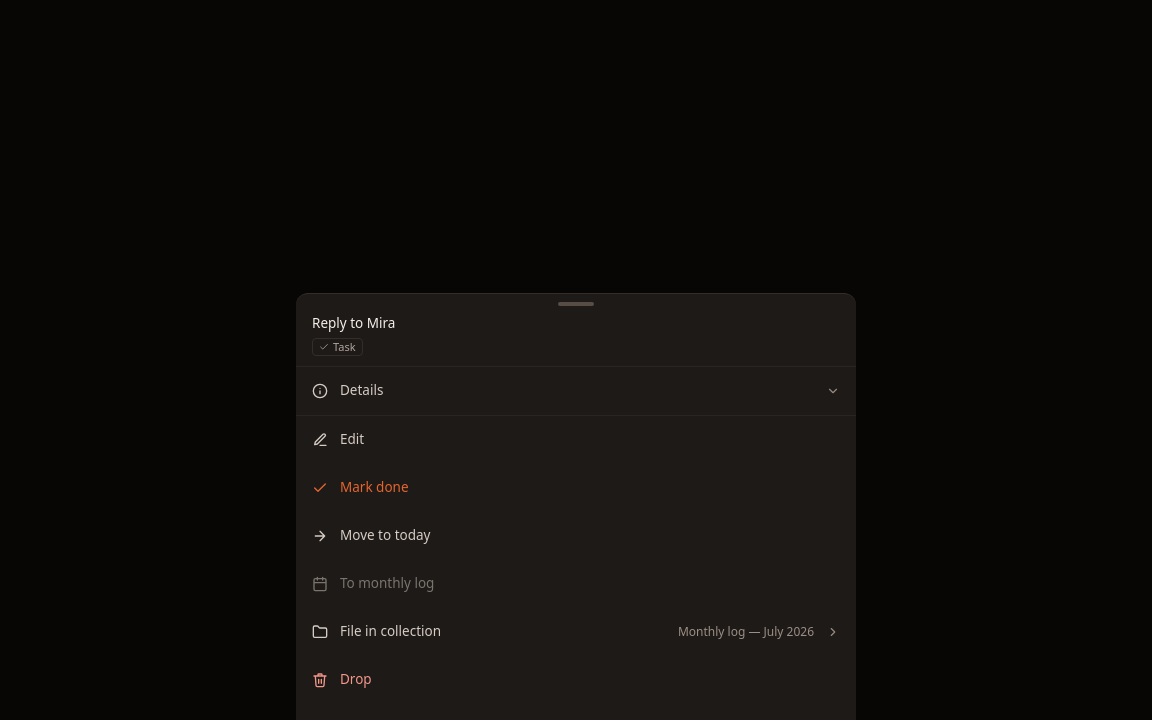
EntryActionSheet › names the monthly log it sits in, and marks it as the picked row
The image size is (1152, 720).
Step 1. Click the button "File in collection Monthly log — July 2026" → [391, 631], box [296,608,856,656]
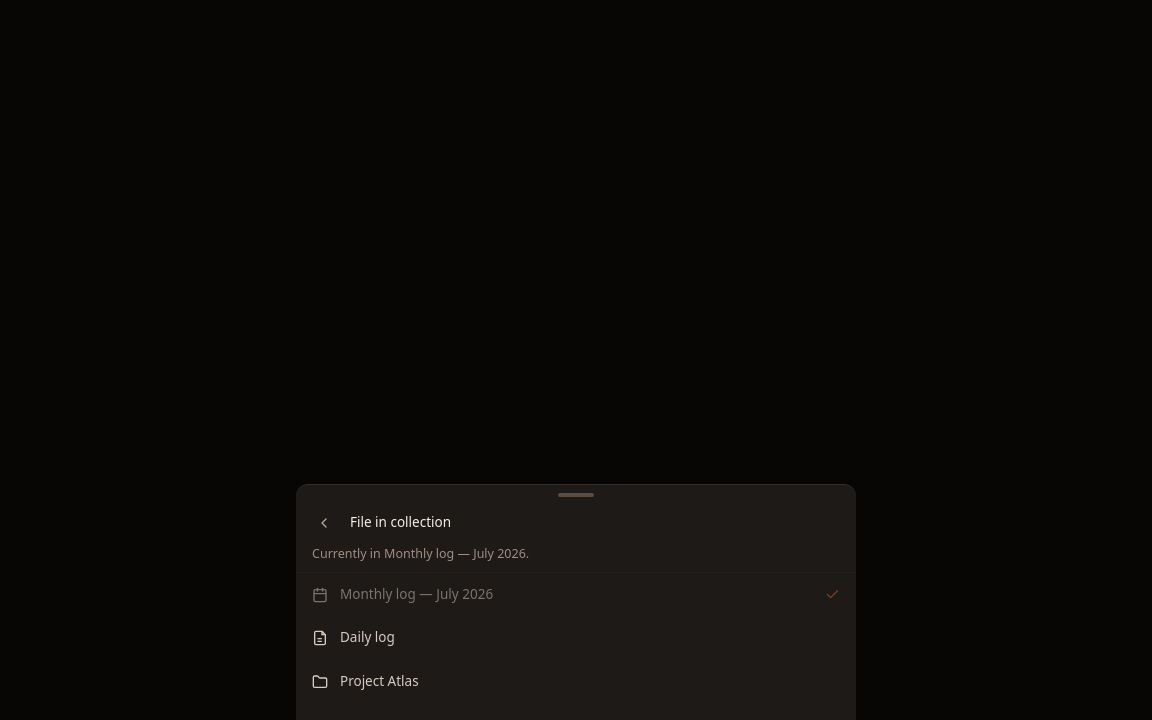
Result: the button "Monthly log — July 2026" is disabled at [296,572,856,616]
Result: the button "Daily log" is enabled at [296,616,856,660]
Result: the button "Project Atlas" is enabled at [296,660,856,704]
